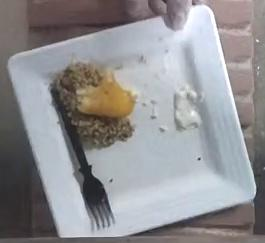dessert: (52, 62, 133, 147)
